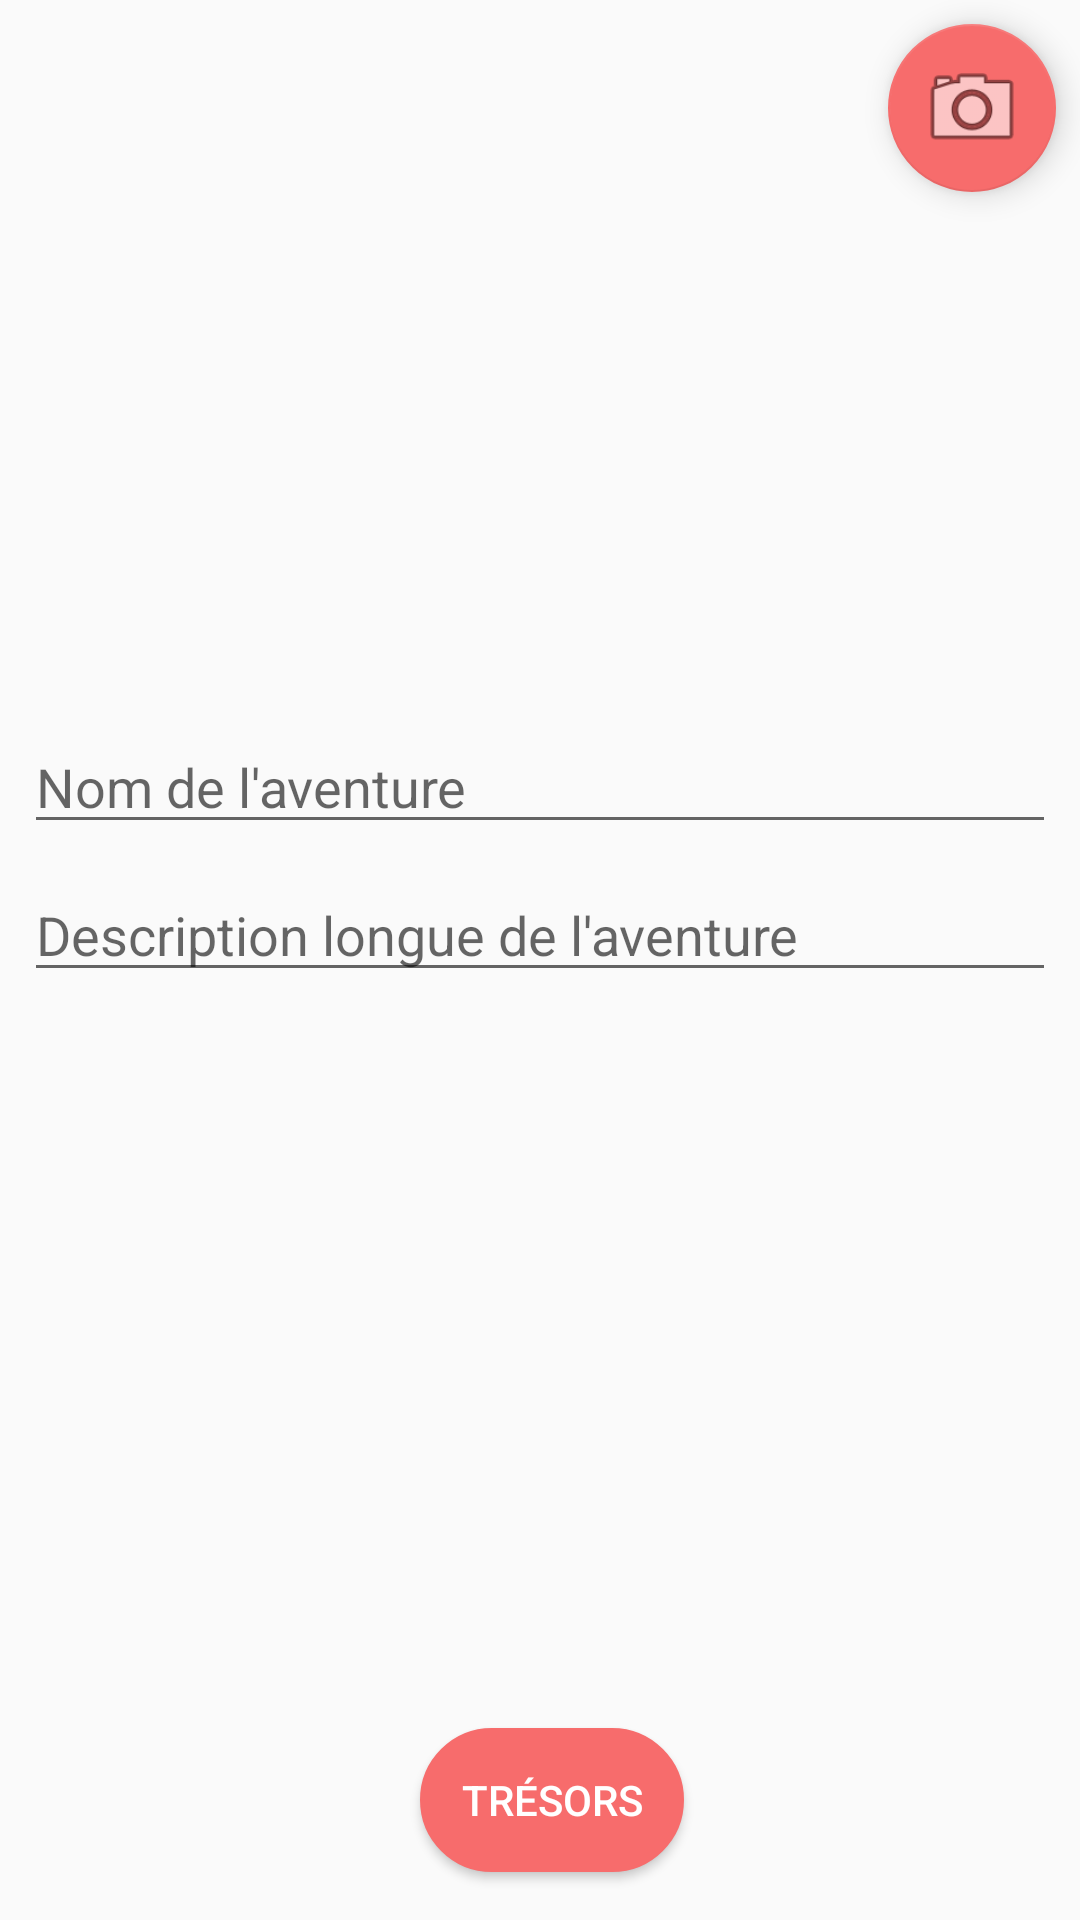

Icons on this 1080x1920 Android screen, each with the point to tap as (x=x, y=y):
camera: (x=972, y=108)
